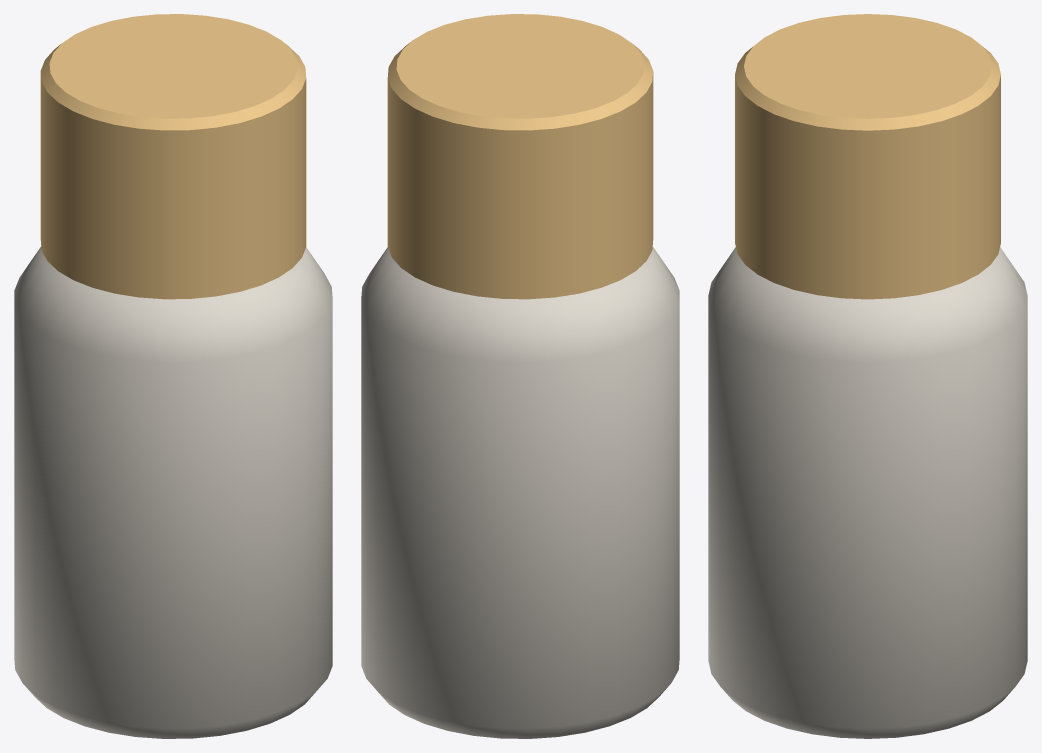
The model's file is JAC_28_Frasco_Spa.glb.
3 renders of one model, left to right at view 1: azimuth 30°, elevation 25°; view 2: azimuth 150°, elevation 25°; view 3: azimuth 270°, elevation 25°, orthographic.
Parts seen in each view (by area): view 1: JAC_28_Frasco_Spa; view 2: JAC_28_Frasco_Spa; view 3: JAC_28_Frasco_Spa.
Part boxes in pixels (left/top/right/bottom): JAC_28_Frasco_Spa: left=14, top=14, right=332, bottom=738; JAC_28_Frasco_Spa: left=361, top=14, right=679, bottom=738; JAC_28_Frasco_Spa: left=708, top=14, right=1027, bottom=738.
Bounding box in the file's own units: 0.072 × 0.152 × 0.072.
